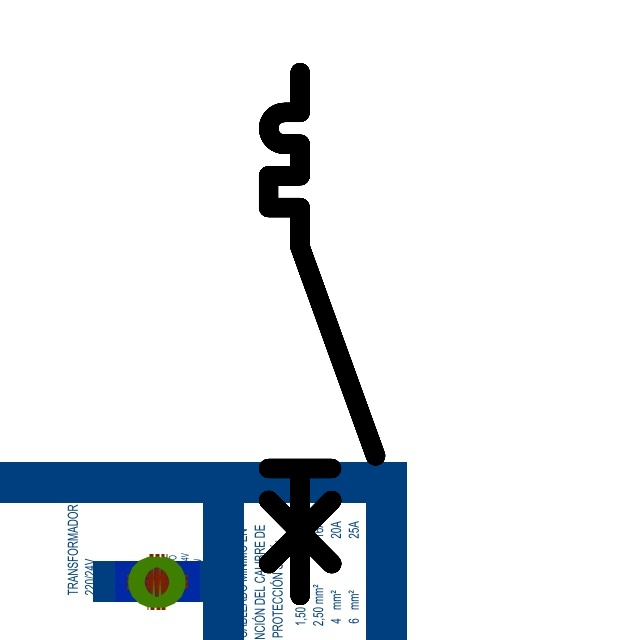interruptor_termomagnetico: (255, 59, 389, 608)
